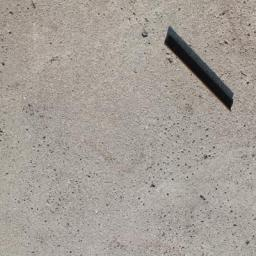FOD: (163, 24, 237, 114)
